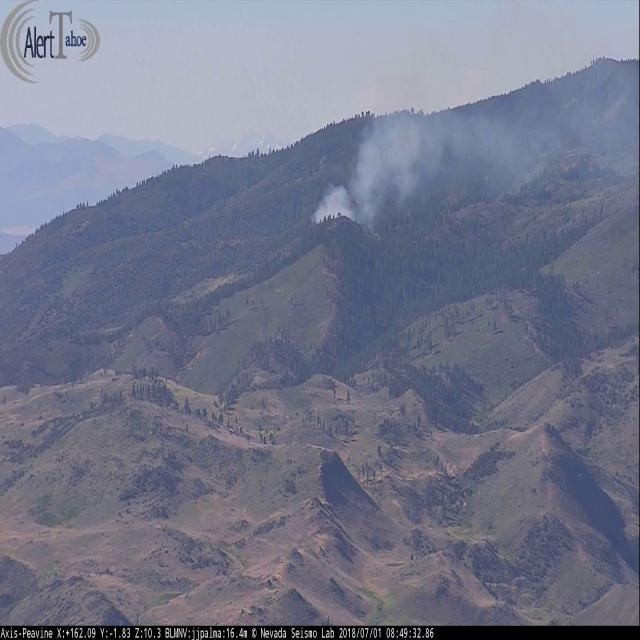smoke: (311, 26, 640, 228)
